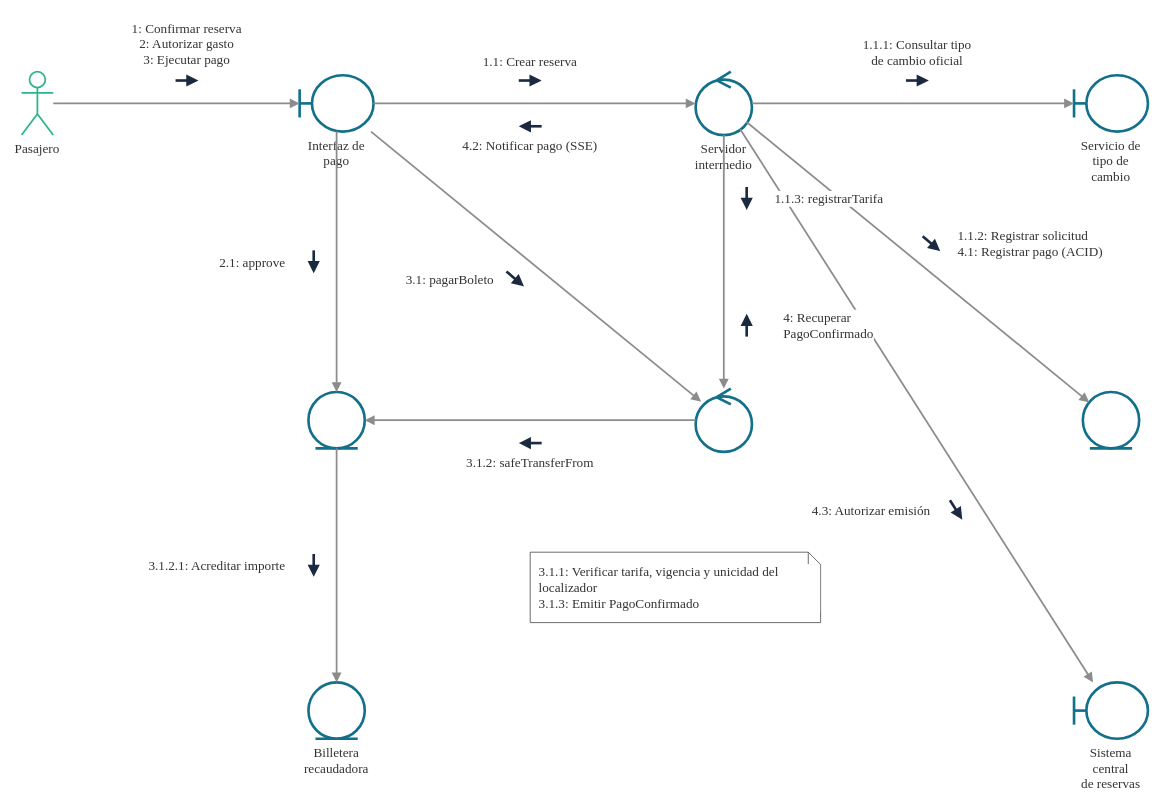
This 1165x807 diagram has some shape labels left out. Here are the shapes that lost their labels. From the top down, the box of each, then its label:
(307, 390, 366, 449): Token USDT
(694, 387, 753, 453): BoAPayments
(1081, 390, 1140, 449): PostgreSQL
